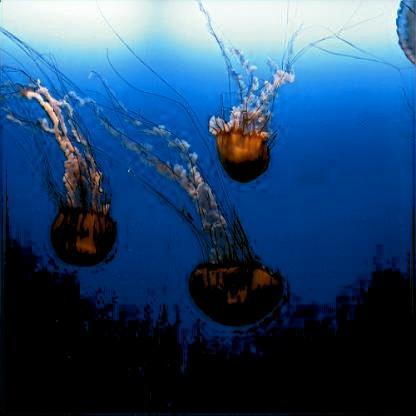Dressed: (103, 82, 283, 329), (21, 81, 119, 263), (209, 56, 283, 186), (396, 3, 414, 65)
